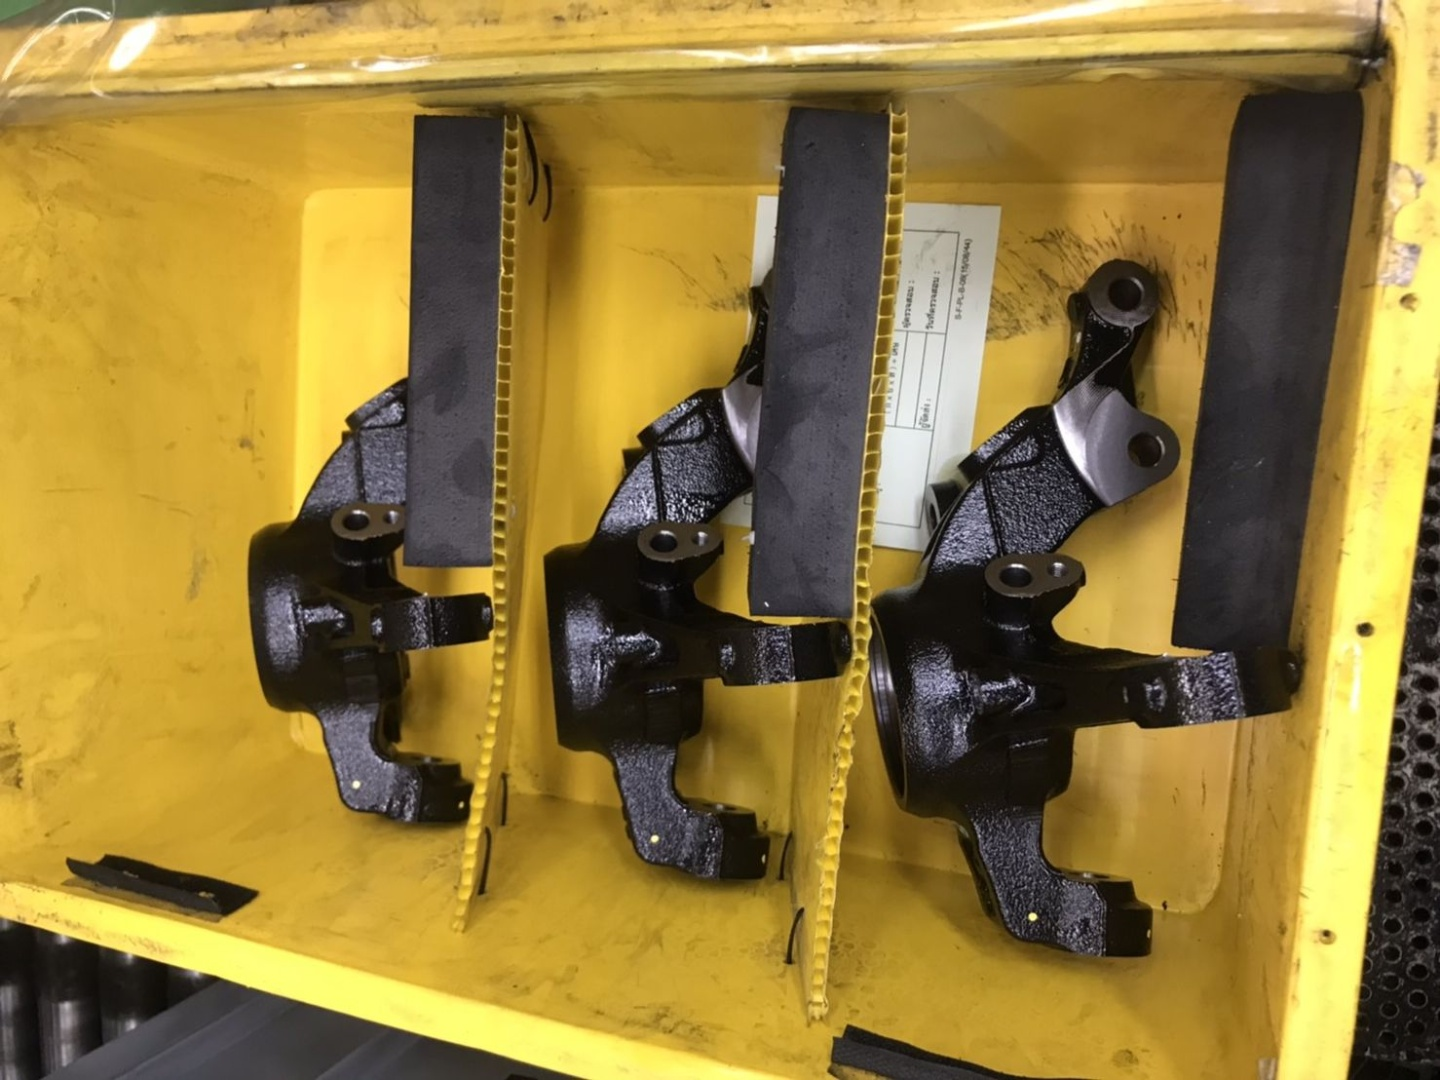abs-lh: (865, 246, 1311, 981), (537, 252, 858, 898), (235, 299, 511, 850)
